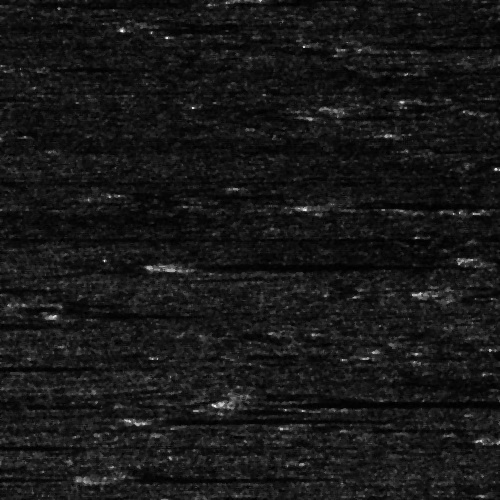rock: (342, 279, 500, 298), (91, 257, 248, 270), (318, 40, 423, 51), (259, 200, 384, 209), (19, 307, 92, 320), (172, 396, 265, 405), (411, 204, 500, 213), (63, 471, 136, 480), (116, 413, 169, 422), (8, 64, 81, 69), (0, 125, 33, 136), (469, 253, 500, 264), (284, 113, 347, 118), (458, 434, 500, 441), (279, 496, 352, 500)
shadow: (170, 257, 408, 270), (219, 396, 500, 405), (143, 413, 384, 422), (100, 471, 328, 480), (322, 200, 500, 209), (56, 307, 171, 320), (371, 40, 489, 51), (436, 279, 500, 298), (0, 305, 43, 322), (316, 496, 493, 500), (0, 362, 66, 371), (2, 125, 55, 136), (45, 64, 153, 69), (0, 320, 50, 327), (316, 113, 375, 118), (474, 204, 500, 213), (0, 439, 22, 446), (490, 253, 500, 264), (490, 434, 500, 441)
